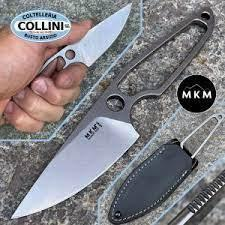Knife: (10, 73, 171, 224), (40, 1, 133, 70)
